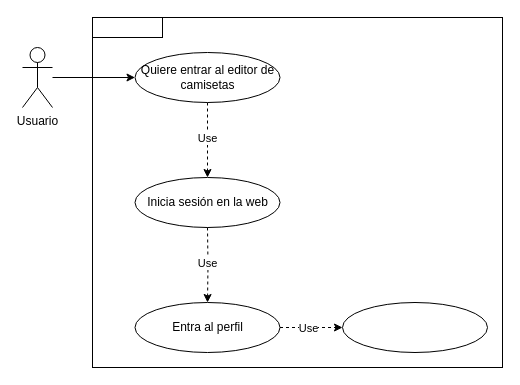
Some shapes in this 520 by 385 pixel diagram are drawn without their labels. The centre of each missing label's shape, as x and y in pixels:
"Camisaedit" belongs at point 127,27.
"Entra al editor de camisetas" belongs at point 415,327.
